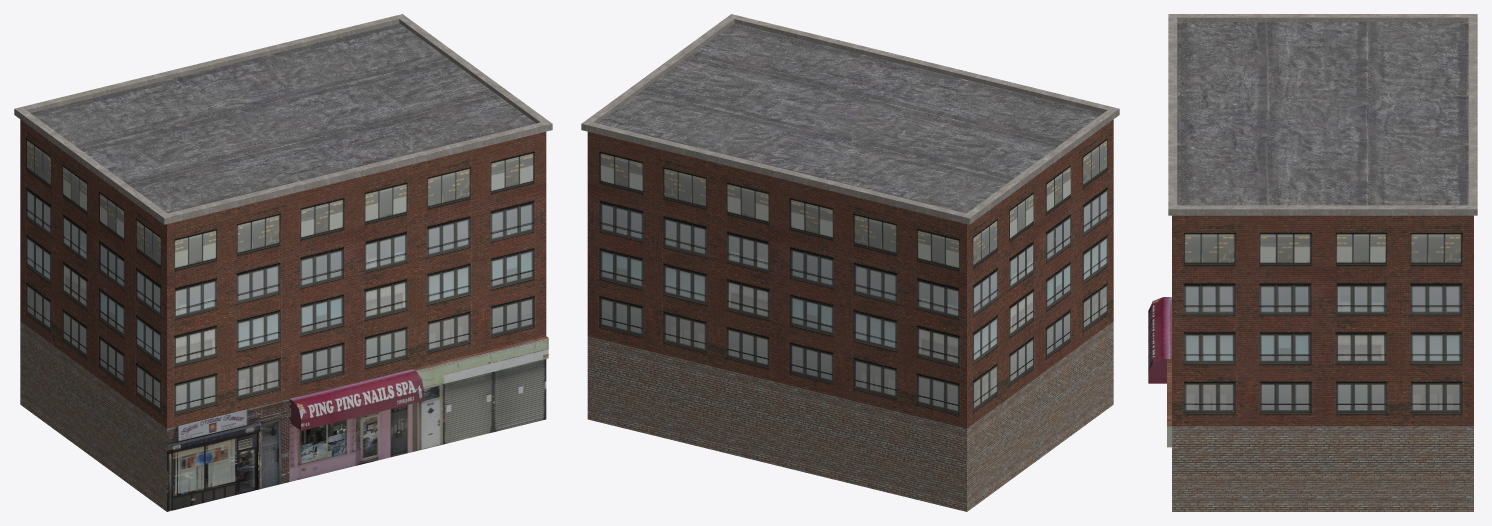
The model's file is building_05.glb.
The picture shows the model from 3 angles, left to right: view 1: azimuth 30°, elevation 25°; view 2: azimuth 150°, elevation 25°; view 3: azimuth 270°, elevation 25°; orthographic projection. The views are drawn at different scales.
Visible parts, largest first — view 1: building_05_mesh; view 2: building_05_mesh; view 3: building_05_mesh.
Part boxes in pixels (x1,y1,x2,y2): building_05_mesh: (14,14,552,511); building_05_mesh: (581,14,1119,511); building_05_mesh: (1148,14,1477,511).
Bounding box in the file's own units: 25.49 × 18.56 × 18.15.
Materials: 7 (7 with a texture image).
